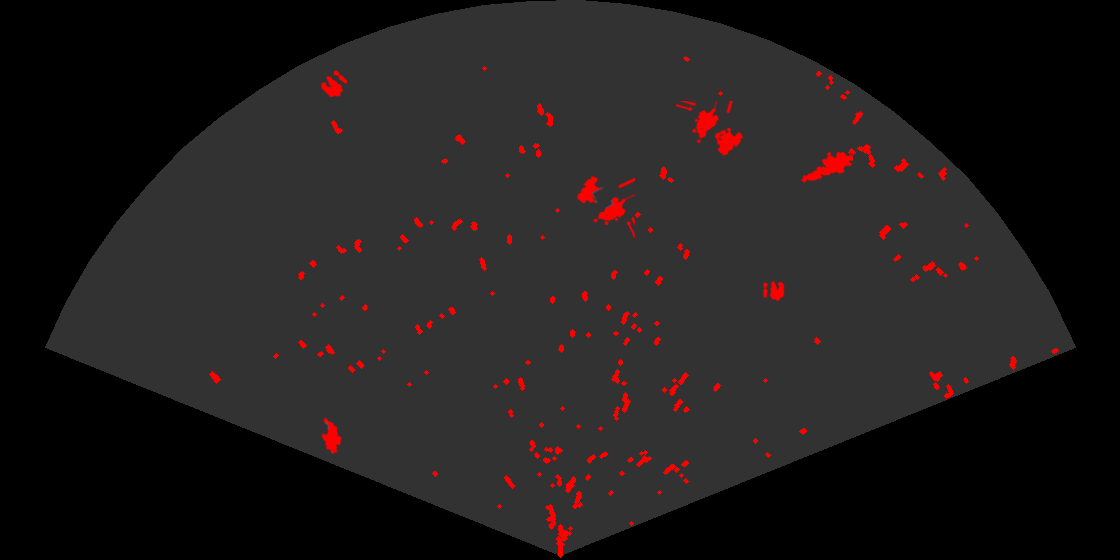AUV: (320, 416, 343, 456)
ball: (319, 69, 349, 99), (761, 279, 786, 303)
cage: (575, 174, 635, 240), (676, 101, 745, 157)
frogman: (799, 150, 853, 184)
